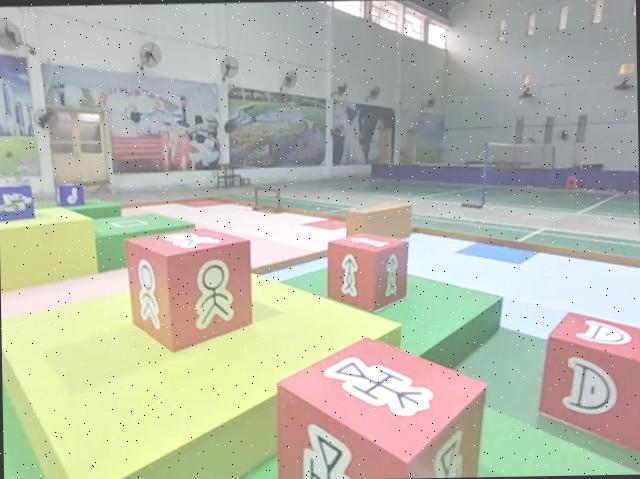R2 Real: (277, 334, 486, 479), (124, 227, 254, 351), (537, 311, 640, 457), (327, 232, 409, 314)
